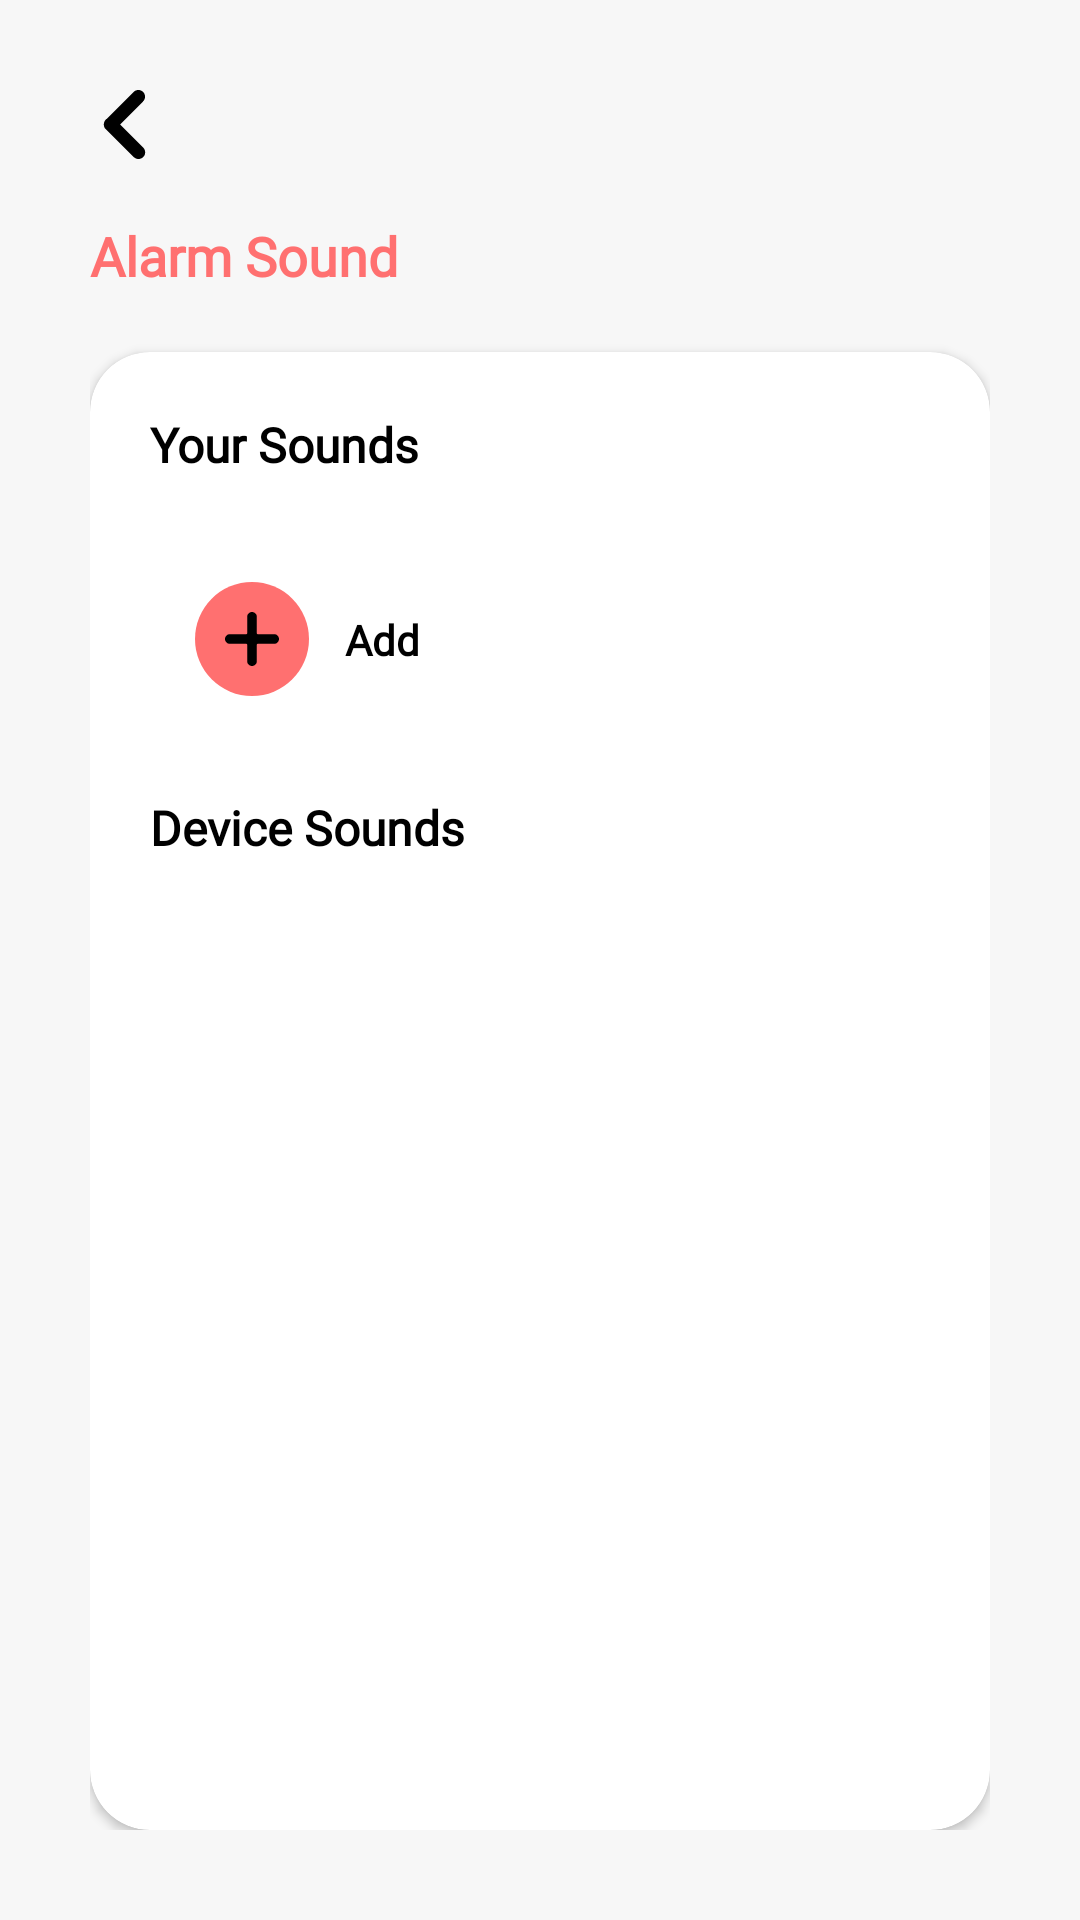

Point at icon controls on the screen. Image size 1080w x 1920h, points as (x=x, y=y).
Back Icon: (x=124, y=124)
